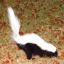skunk: (7, 7, 59, 58)
